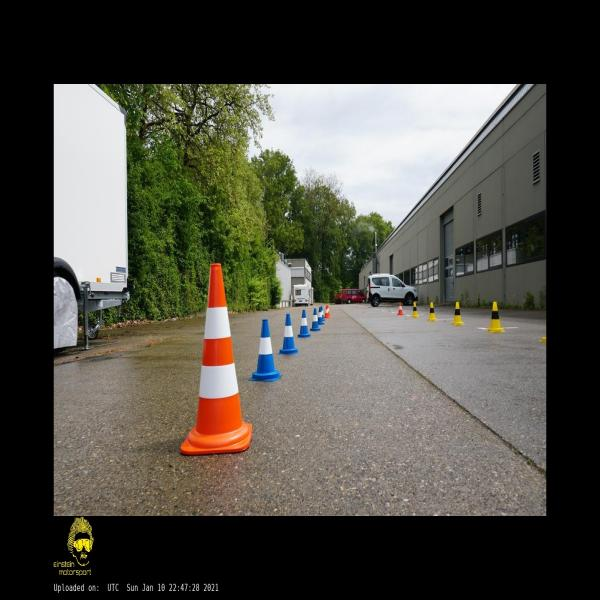blue_cone: (249, 319, 283, 382), (278, 314, 298, 354), (297, 310, 311, 337), (310, 308, 321, 330), (318, 306, 325, 325), (321, 306, 325, 320)
large_orange_cone: (180, 264, 252, 455)
orange_cone: (398, 302, 404, 314), (324, 305, 329, 318), (326, 305, 329, 315)
yellow_cone: (487, 302, 504, 332), (451, 301, 464, 324), (427, 302, 437, 321), (411, 302, 419, 317)
